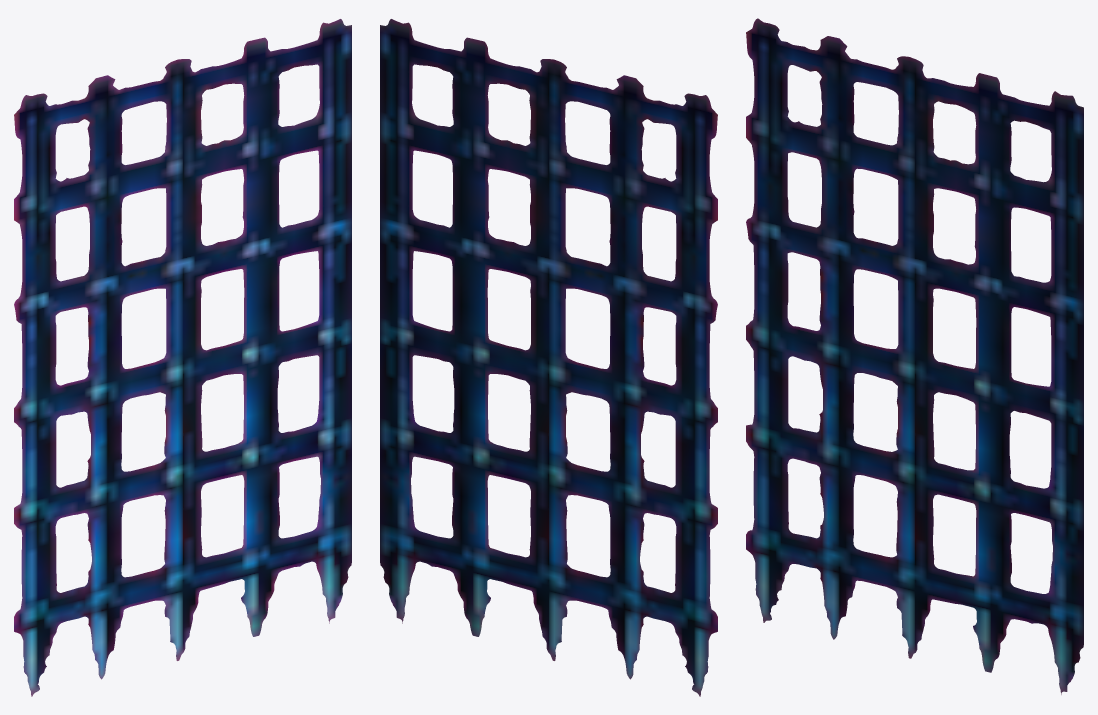
The model's file is gate_01.fbx.
3 renders of one model, left to right at view 1: azimuth 30°, elevation 25°; view 2: azimuth 150°, elevation 25°; view 3: azimuth 330°, elevation 25°, orthographic.
Visible parts, largest first — view 1: gate00_mesh; view 2: gate00_mesh; view 3: gate00_mesh.
Boxes of the visible parts, x1,y1,x2,y2 form: gate00_mesh: (14,19,351,696); gate00_mesh: (380,19,717,696); gate00_mesh: (746,18,1083,694).
Bounding box in the file's own units: 1.96 × 3.34 × 9.08e-07.
1 material, 1 textured.
